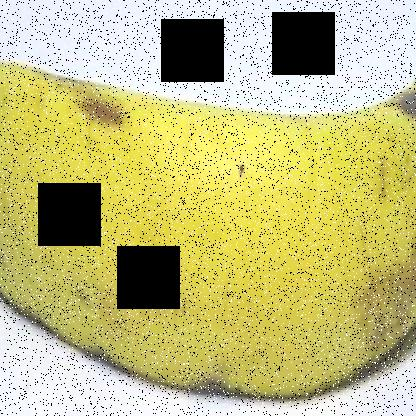freshripe: (0, 39, 415, 404)
